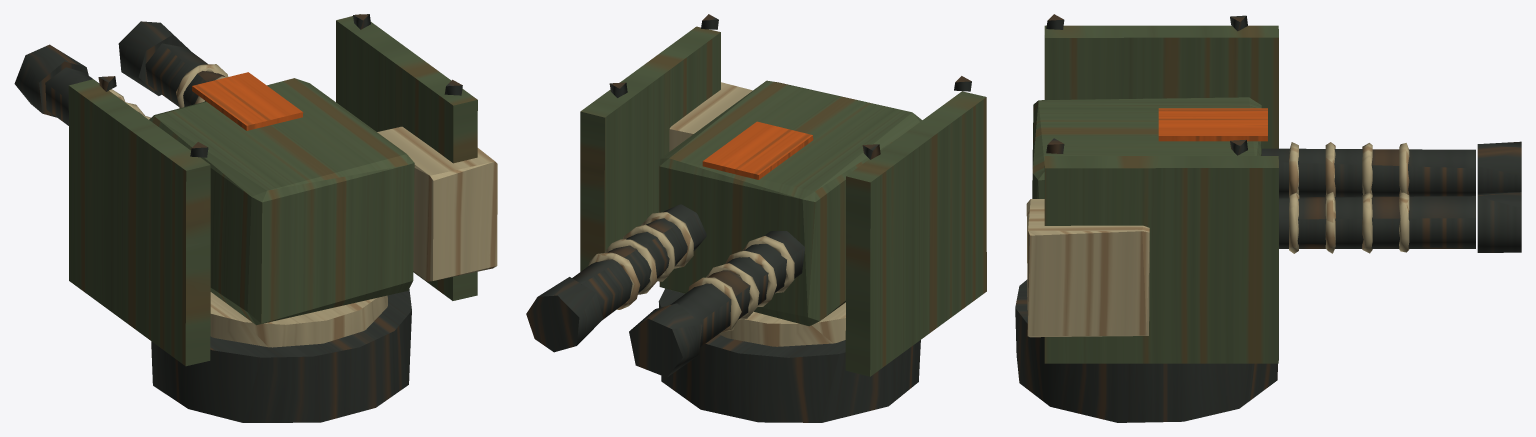
The model's file is convoy-turret-lod.obj.
3 renders of one model, left to right at view 1: azimuth 30°, elevation 25°; view 2: azimuth 150°, elevation 25°; view 3: azimuth 270°, elevation 25°, orthographic.
Visible parts, largest first — view 1: convoy-turret.001; view 2: convoy-turret.001; view 3: convoy-turret.001.
Part boxes in pixels (x1,y1,x2,y2): convoy-turret.001: (14, 14, 497, 422); convoy-turret.001: (526, 14, 986, 422); convoy-turret.001: (1015, 14, 1521, 422).
Bounding box in the file's own units: 0.957 × 0.864 × 1.38.
